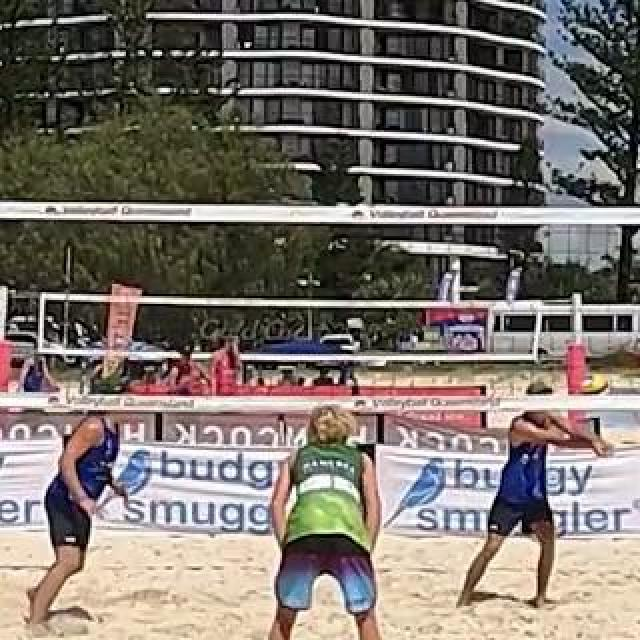volleyball: (579, 374, 611, 406)
